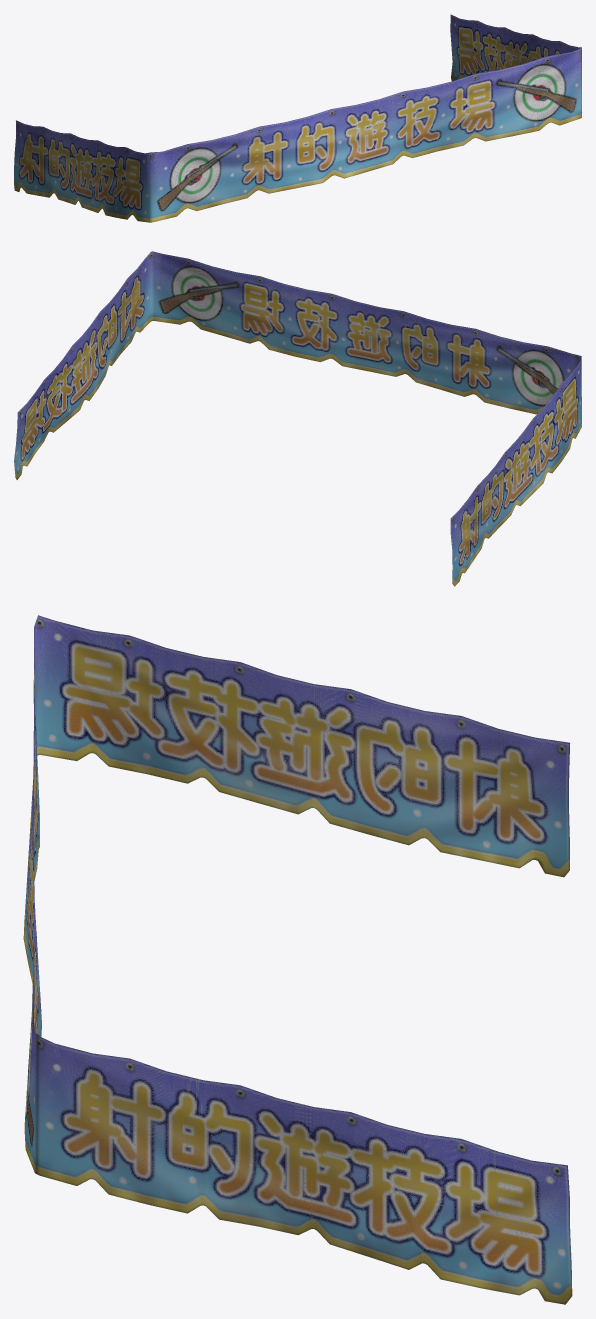
The model's file is jsf_ShopCurtain_Shooting_01.fbx.
3 views of the same model, one above another, from view 1: azimuth 30°, elevation 25°; view 2: azimuth 150°, elevation 25°; view 3: azimuth 270°, elevation 25° (orthographic). The views are drawn at different scales.
Visible parts, largest first — view 1: jsf_ShopCurtain_Shooting_01; view 2: jsf_ShopCurtain_Shooting_01; view 3: jsf_ShopCurtain_Shooting_01.
Part boxes in pixels (x1,y1,x2,y2): jsf_ShopCurtain_Shooting_01: [14, 14, 581, 222]; jsf_ShopCurtain_Shooting_01: [14, 251, 581, 586]; jsf_ShopCurtain_Shooting_01: [23, 615, 572, 1304].
Size of the model in its own units: 404 by 116 by 216.
